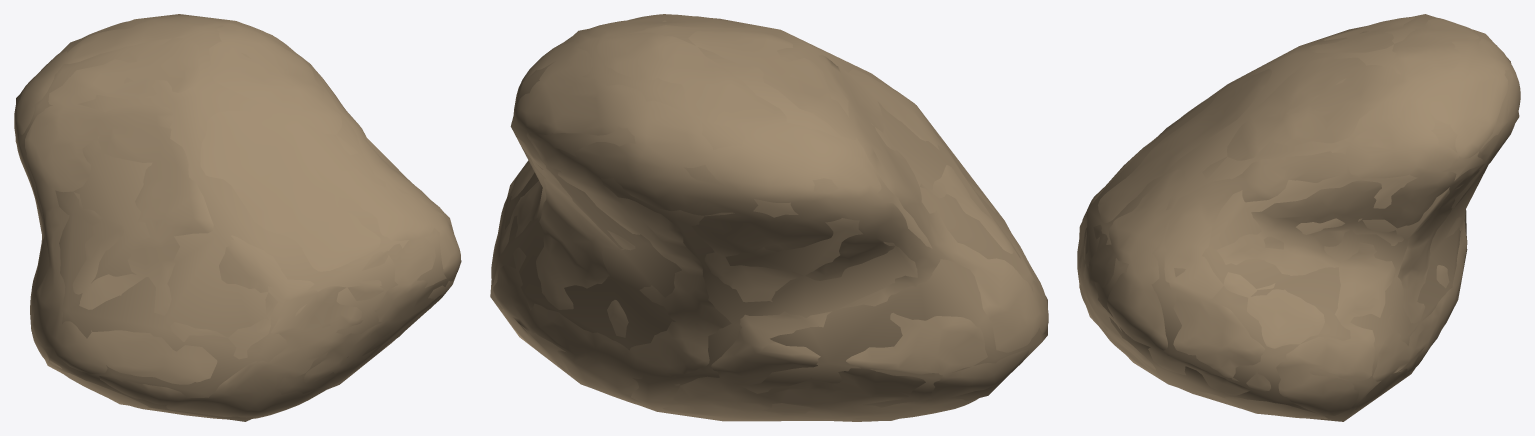
File: boulder_2.glb
3 views of the same model, side by side, from view 1: azimuth 30°, elevation 25°; view 2: azimuth 150°, elevation 25°; view 3: azimuth 270°, elevation 25° (orthographic). The views are drawn at different scales.
Visible parts, largest first — view 1: Boulder_2, Boulder_2_Far; view 2: Boulder_2, Boulder_2_Far; view 3: Boulder_2, Boulder_2_Far.
Part boxes in pixels (<box>): Boulder_2: <box>14,16,460,419</box>; Boulder_2_Far: <box>15,14,461,421</box>; Boulder_2: <box>491,14,1048,421</box>; Boulder_2_Far: <box>490,14,1047,421</box>; Boulder_2: <box>1077,17,1520,418</box>; Boulder_2_Far: <box>1078,14,1519,421</box>.
Size of the model in its own units: 6.54 by 5.04 by 6.
